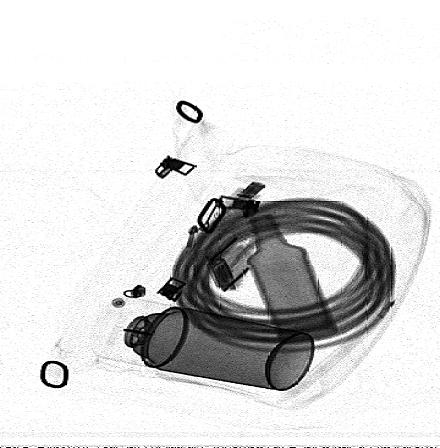Sprayer: (88, 296, 316, 391)
